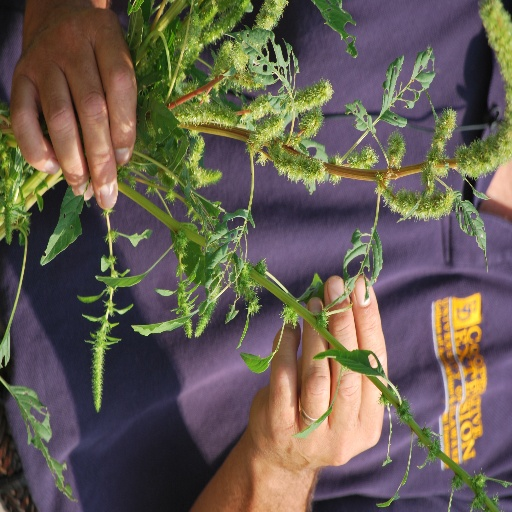hand: (247, 272, 387, 473), (12, 5, 131, 206)
